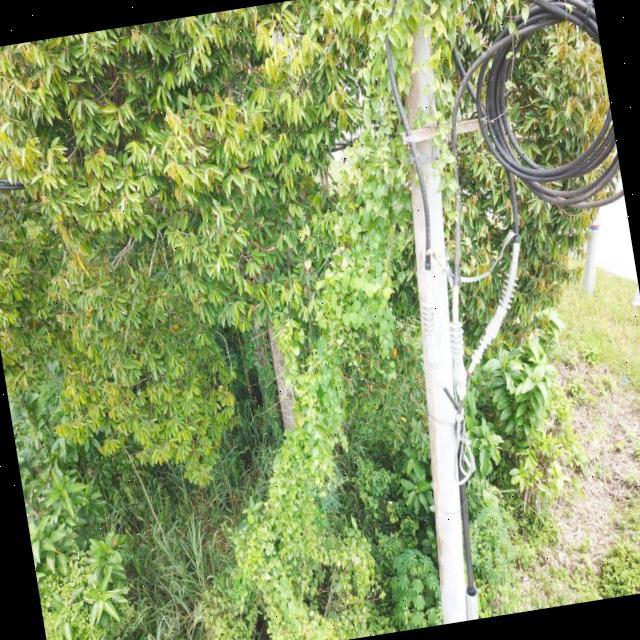critical vegetation: (120, 18, 519, 640)
